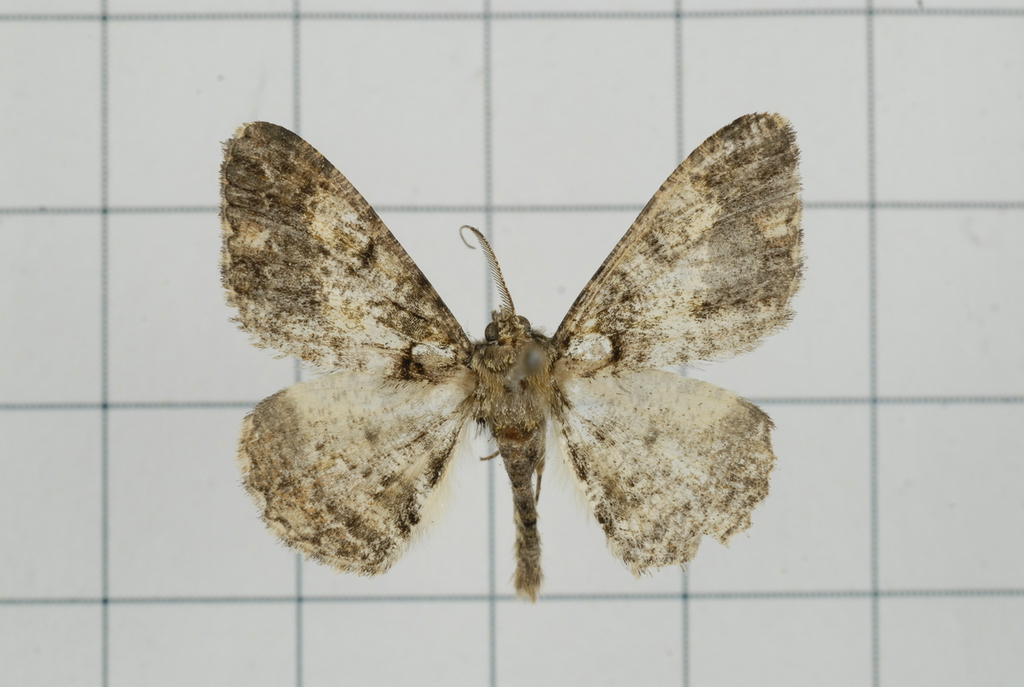Butterfly: (188, 94, 838, 590)
